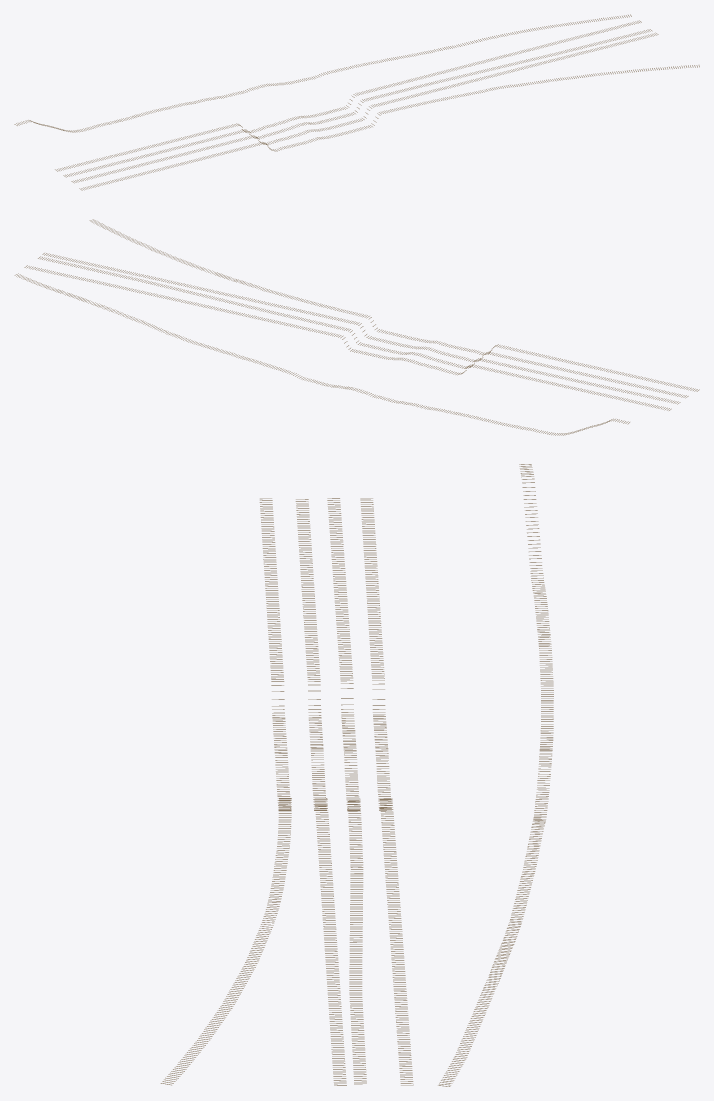
File: c_1628_17822_rail_sleeper.glb
3 views of the same model, one above another, from view 1: azimuth 30°, elevation 25°; view 2: azimuth 150°, elevation 25°; view 3: azimuth 270°, elevation 25° (orthographic). The views are drawn at different scales.
Visible parts, largest first — view 1: geometry_0; view 2: geometry_0; view 3: geometry_0.
Part boxes in pixels (bbox=[...]): geometry_0: bbox=[14, 14, 699, 190]; geometry_0: bbox=[14, 219, 699, 435]; geometry_0: bbox=[160, 464, 553, 1086].
Size of the model in its own units: 256 by 12.19 by 73.34.
